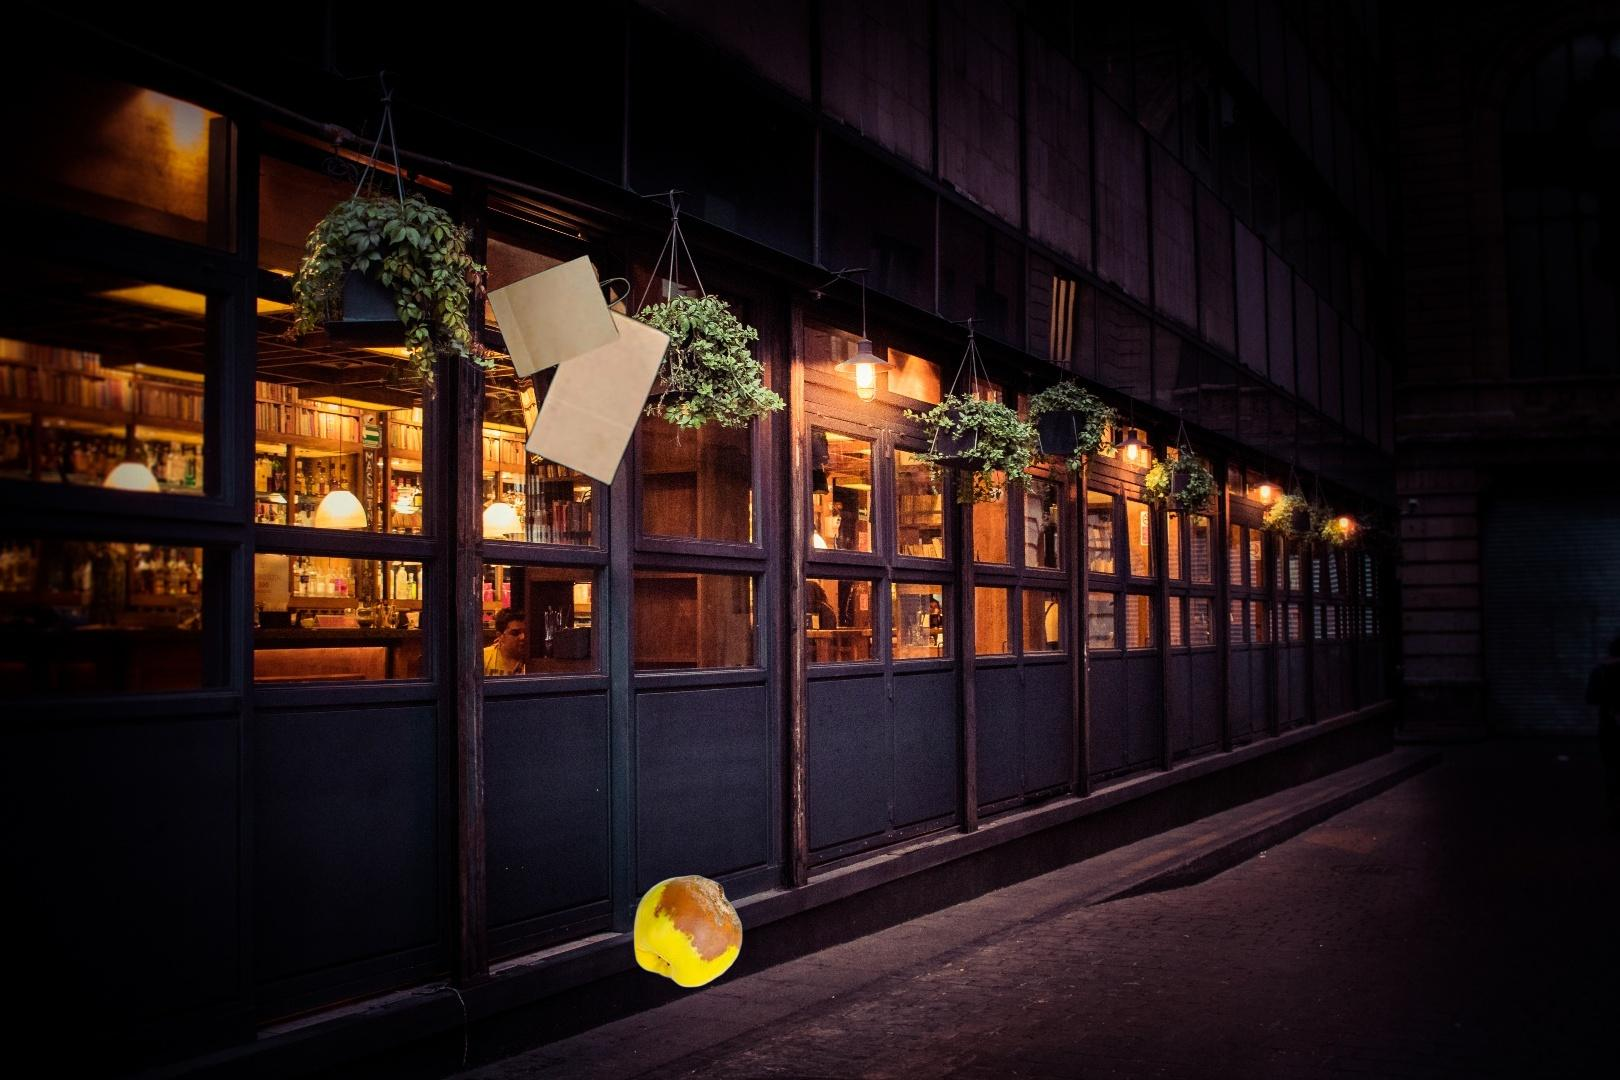biological: (630, 871, 745, 991)
paper-bag: (485, 252, 675, 489)
